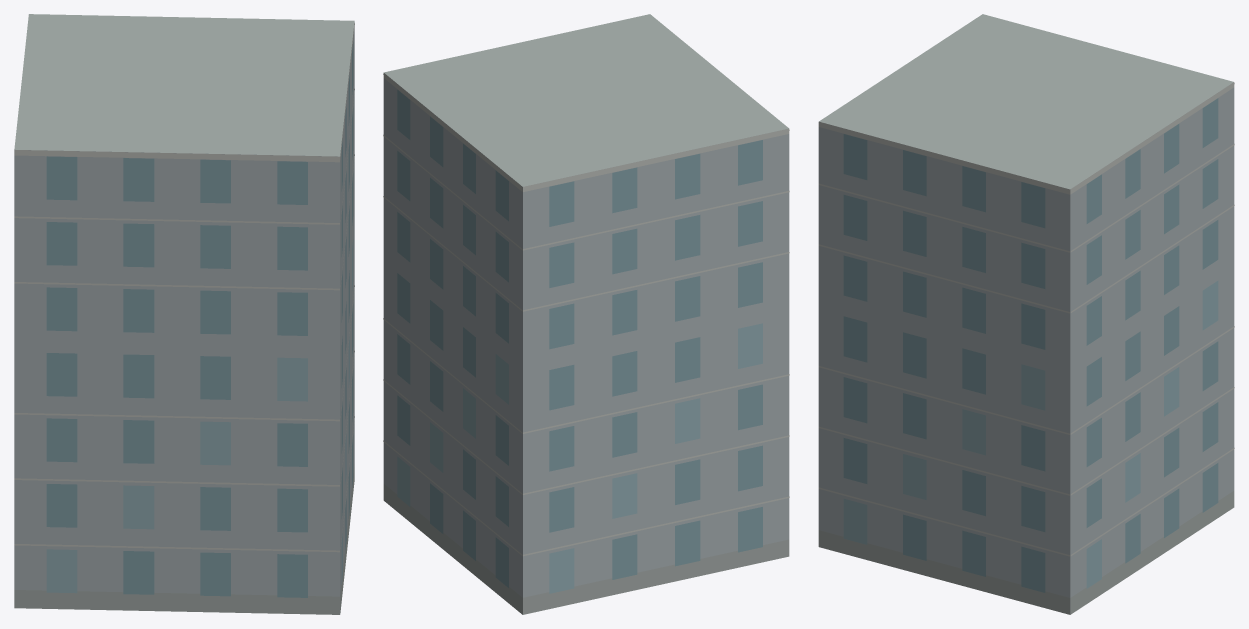
Rendered from survey-upis-32964862.glb.
3 views of the same model, side by side, from view 1: azimuth 30°, elevation 25°; view 2: azimuth 150°, elevation 25°; view 3: azimuth 270°, elevation 25° (orthographic). The views are drawn at different scales.
Parts seen in each view (by area): view 1: survey-upis-32964862.tmp; view 2: survey-upis-32964862.tmp; view 3: survey-upis-32964862.tmp.
Boxes of the visible parts, box(x1,y1,x2,y2) form: survey-upis-32964862.tmp: box(14, 14, 354, 614); survey-upis-32964862.tmp: box(383, 14, 789, 614); survey-upis-32964862.tmp: box(818, 14, 1234, 614).
Bounding box in the file's own units: 17.23 × 19.45 × 17.24.
